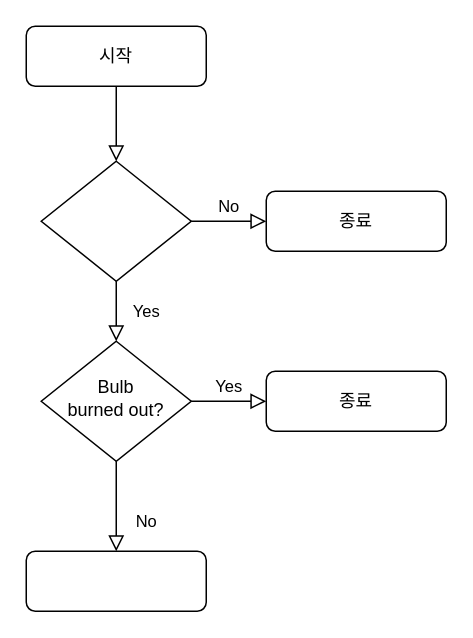
Some shapes in this 473 by 638 pixel diagram are drawn without their labels. Each missing label, with the centre of its shape:
"Repair Lamp" goes at point (115, 580).
"사용자 입력" goes at point (115, 220).
